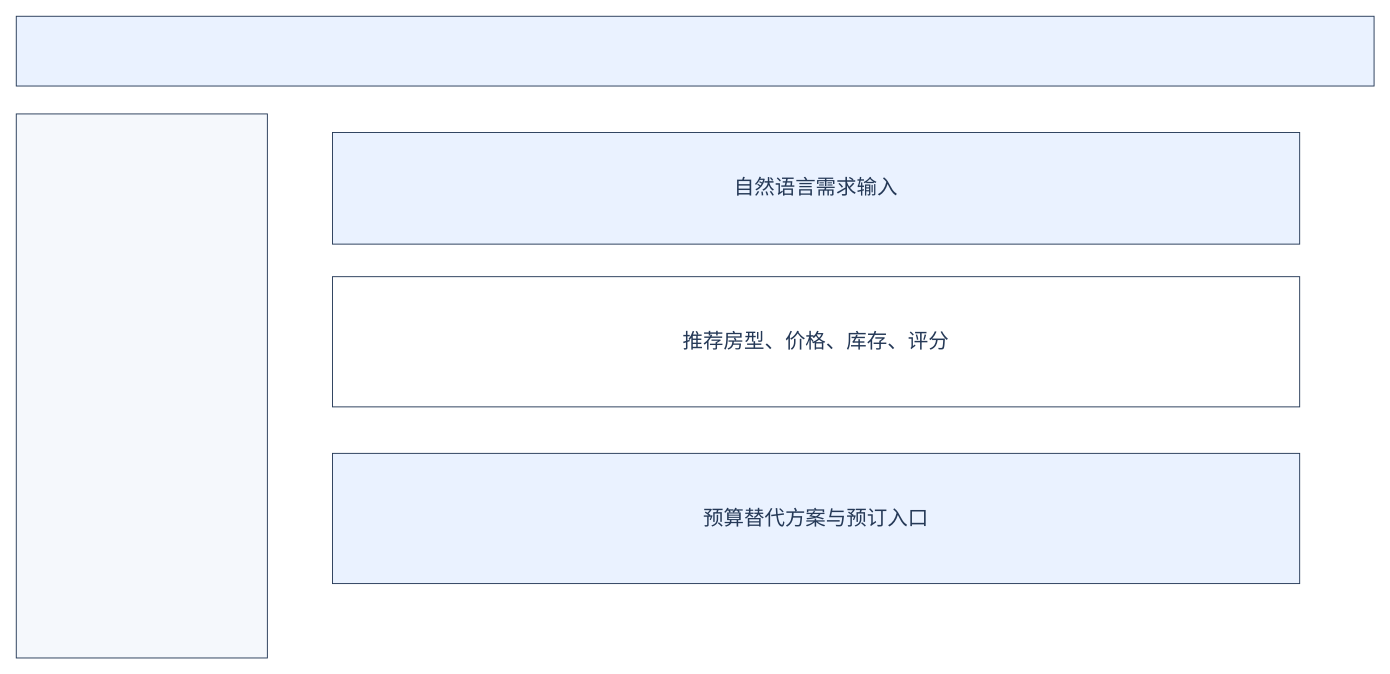
Image size: 1390x674. Some labels were removed from this diagram. The shapes that lost their labels are listed below. From the top down, each one's centre as x and y in pixels, then its label:
At point 694,50: "智慧酒店预订与运营管理系统".
At point 141,385: "智能选房".
